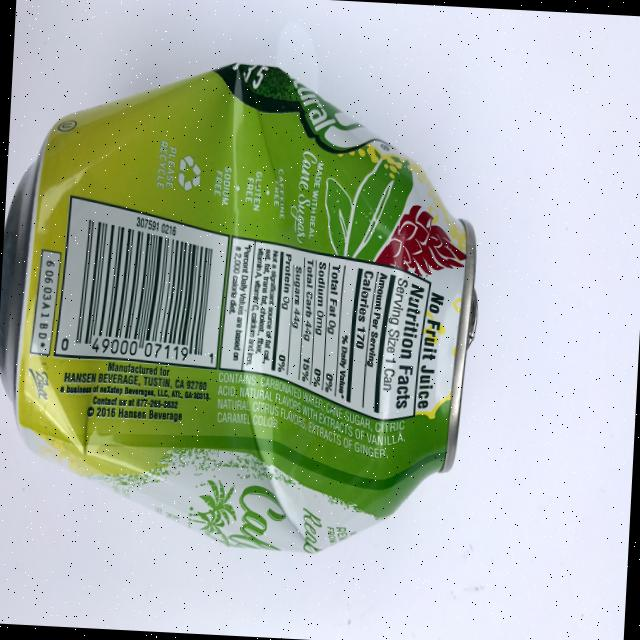metal: (0, 49, 491, 563)
